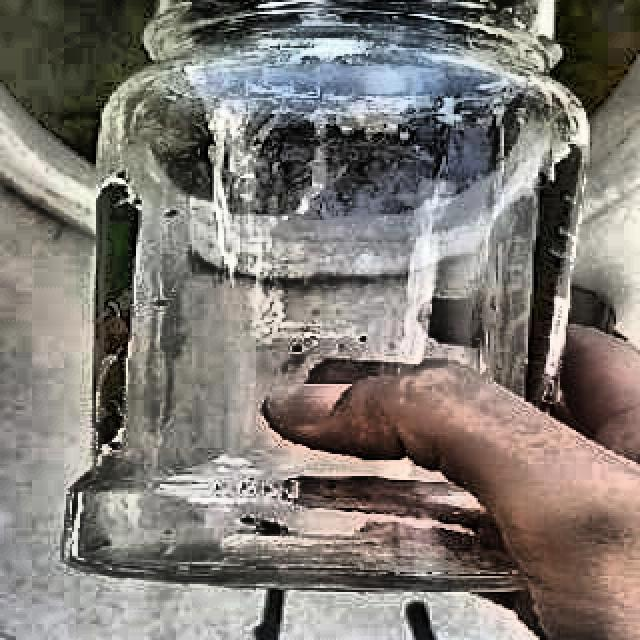glass: (64, 0, 589, 593)
